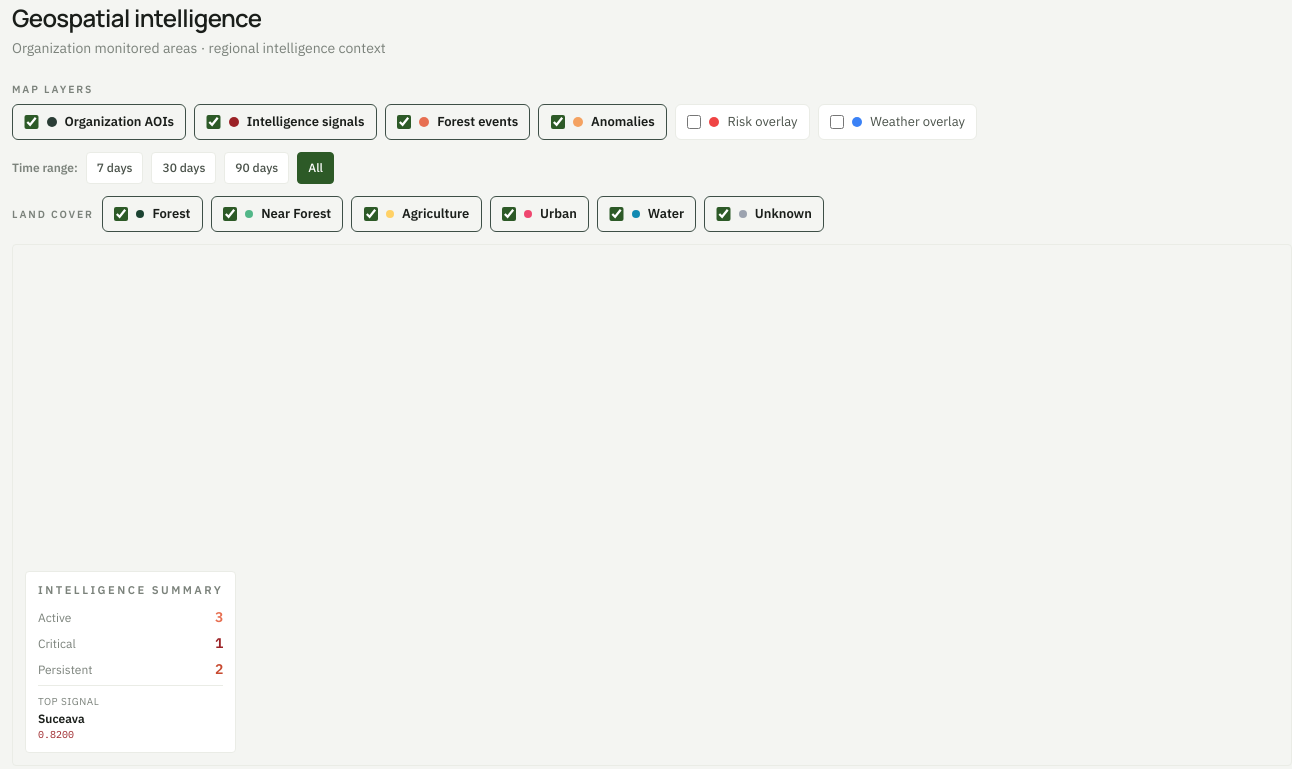
it: IntelligenceMap › weather overlay layer › weather legend entries appear when overlay is enabled
Click the checkbox labelled "Weather overlay". click: point(837, 122)
box: [830,115,844,129]
(page scrolled)
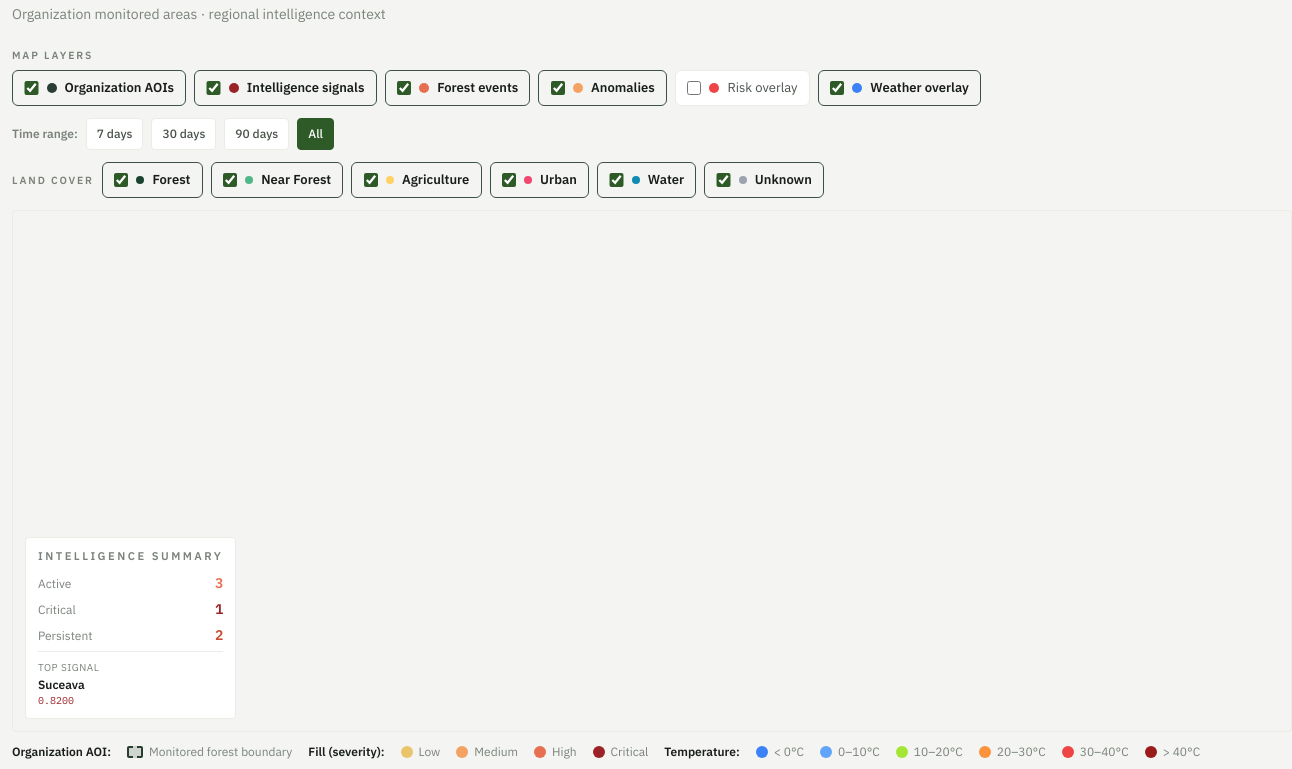
Now the text "< 0°C" is shown, box [756,744,804,760]
